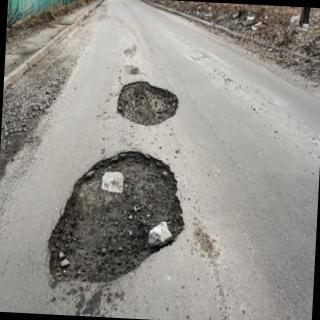pothole: (47, 151, 185, 288), (117, 82, 179, 127)
